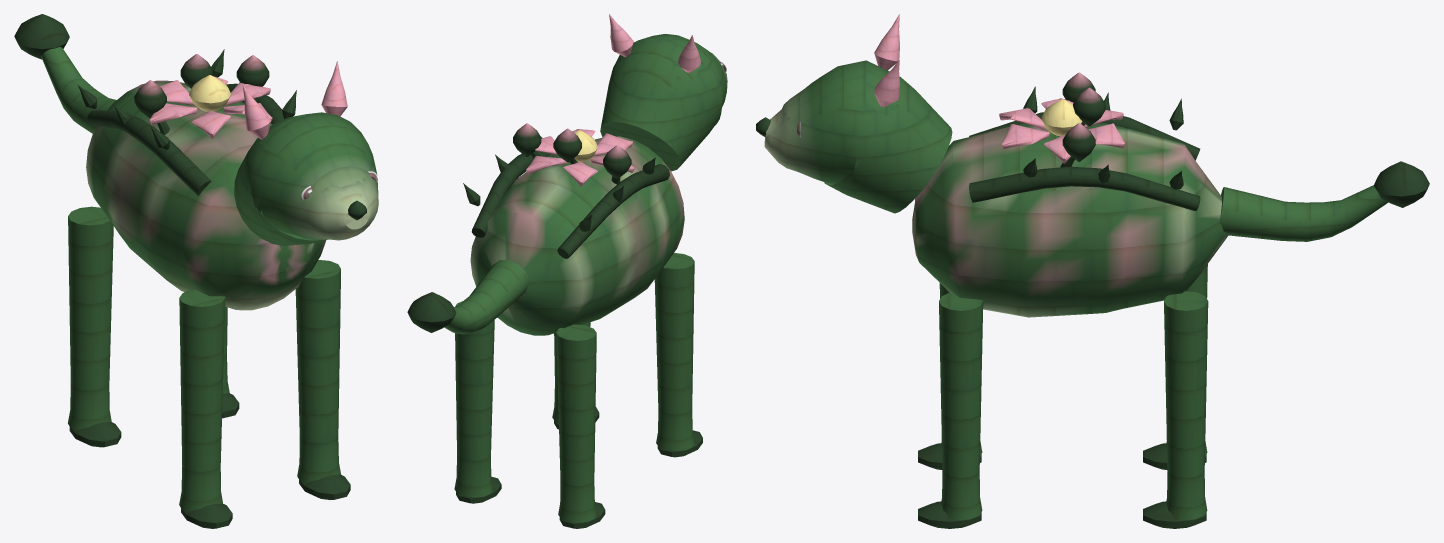
Rendered from sp_ibaragon-4n21rcqq.glb.
The picture shows the model from 3 angles, left to right: view 1: azimuth 30°, elevation 25°; view 2: azimuth 150°, elevation 25°; view 3: azimuth 270°, elevation 25°; orthographic projection. The views are drawn at different scales.
Parts seen in each view (by area): view 1: Legs, Body, HeadMesh, TailMesh, ThornArmor, BackBloom, SeedPods, HeadExtras; view 2: Body, Legs, HeadMesh, TailMesh, ThornArmor, BackBloom, SeedPods, HeadExtras; view 3: Body, Legs, HeadMesh, TailMesh, ThornArmor, BackBloom, SeedPods, HeadExtras.
Part boxes in pixels (box(x1,y1,x2,y2)): Legs: box(68, 206, 350, 528); Body: box(86, 80, 325, 310); HeadMesh: box(234, 112, 378, 245); TailMesh: box(14, 14, 116, 133); ThornArmor: box(78, 49, 296, 195); BackBloom: box(149, 75, 272, 138); SeedPods: box(134, 54, 269, 134); HeadExtras: box(242, 61, 347, 139); Body: box(470, 136, 684, 335); Legs: box(454, 253, 702, 528); HeadMesh: box(600, 34, 727, 171); TailMesh: box(407, 260, 529, 334); ThornArmor: box(463, 137, 669, 258); BackBloom: box(526, 129, 634, 186); SeedPods: box(513, 123, 631, 184); HeadExtras: box(609, 14, 700, 72); Body: box(912, 123, 1228, 317); Legs: box(918, 264, 1208, 528); HeadMesh: box(756, 60, 952, 213); TailMesh: box(1219, 161, 1429, 241); ThornArmor: box(969, 86, 1200, 210); BackBloom: box(999, 98, 1125, 163); SeedPods: box(1060, 72, 1105, 167); HeadExtras: box(874, 14, 899, 107).
Size of the model in its own units: 0.333 by 0.9068 by 1.2.
1 material, 1 textured.
